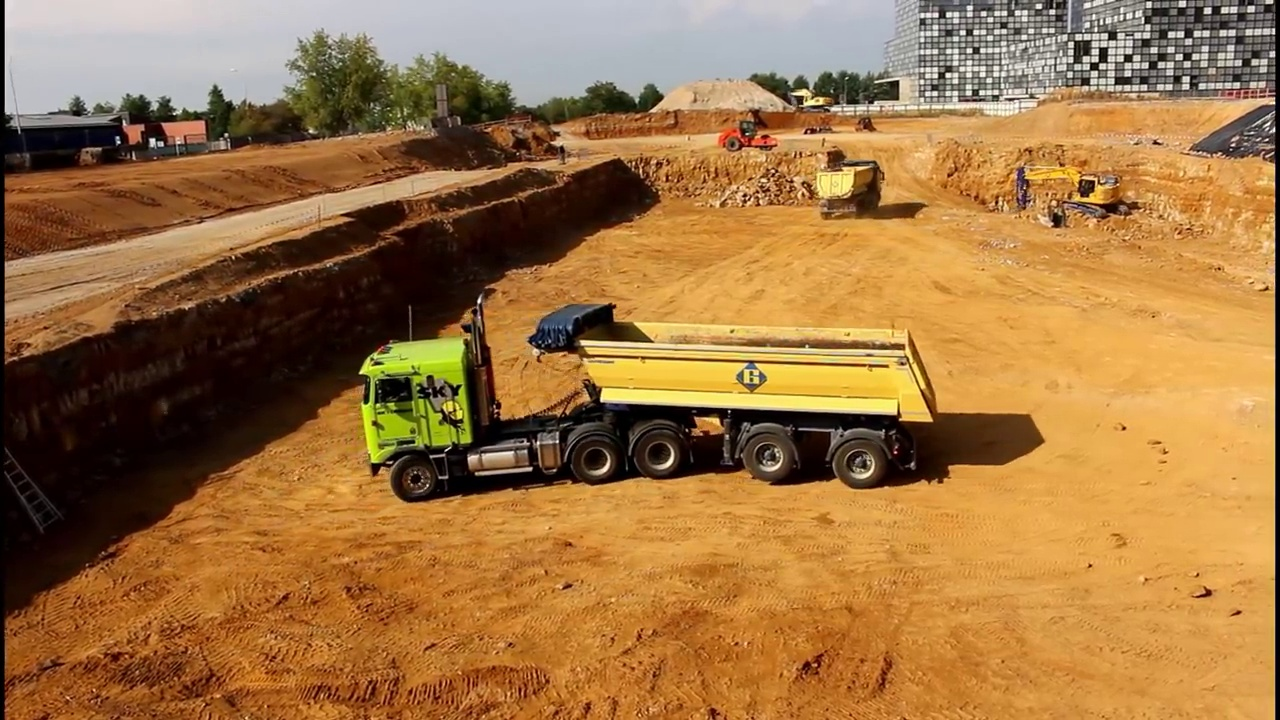compactor: (715, 113, 781, 157)
excavator: (1004, 157, 1137, 233), (791, 82, 839, 114)
truck: (347, 285, 952, 507), (815, 150, 890, 224)
